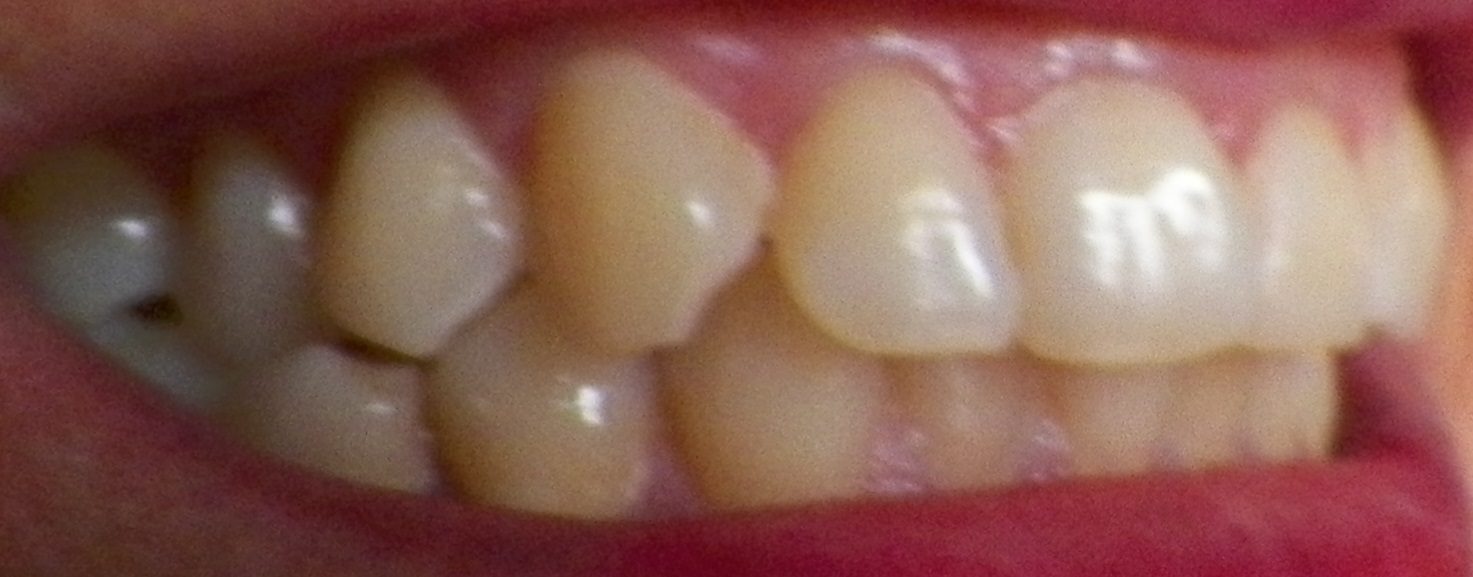boca: (51, 82, 1451, 510)
